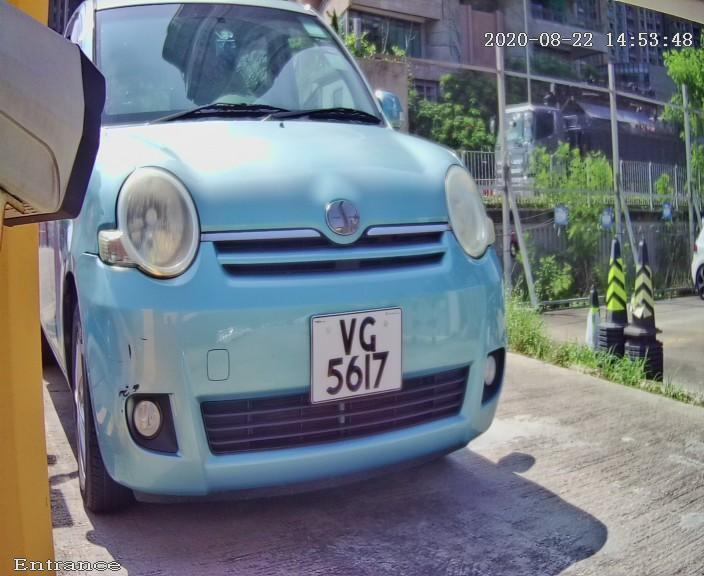Car: (10, 1, 547, 566)
License Plate: (305, 299, 409, 417)
